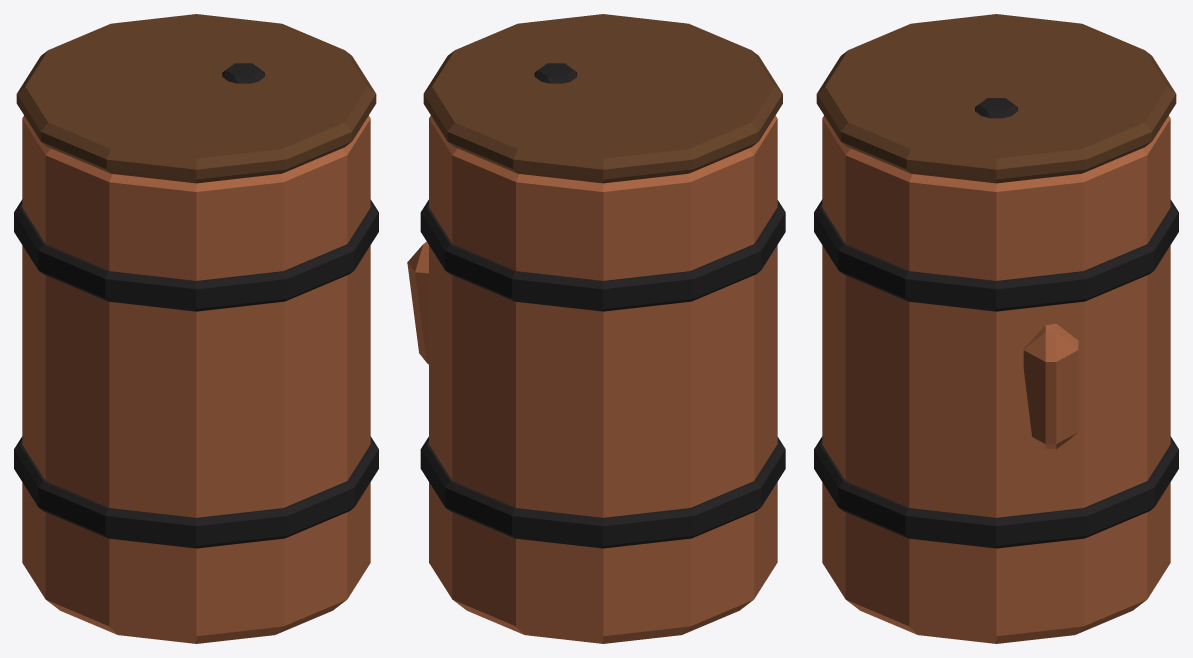
Rendered from park_barrel.glb.
3 renders of one model, left to right at view 1: azimuth 30°, elevation 25°; view 2: azimuth 150°, elevation 25°; view 3: azimuth 270°, elevation 25°, orthographic.
Visible parts, largest first — view 1: park_barrel; view 2: park_barrel; view 3: park_barrel.
Boxes of the visible parts, box(x1,y1,x2,y2) form: park_barrel: box(14, 14, 378, 643); park_barrel: box(407, 14, 785, 643); park_barrel: box(814, 14, 1178, 643).
Size of the model in its own units: 0.6869 by 1 by 0.67.
